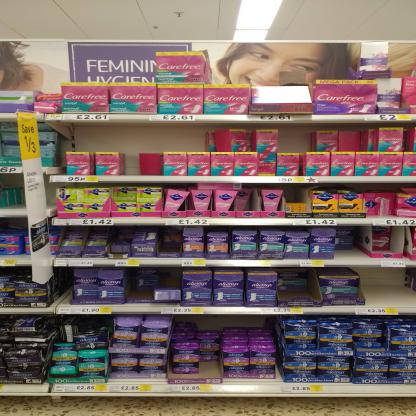Void: (63, 124, 204, 148), (365, 268, 415, 307), (190, 316, 271, 328), (53, 268, 75, 306), (132, 270, 176, 285), (281, 130, 309, 151), (162, 227, 180, 254), (338, 245, 367, 260), (282, 185, 306, 201), (283, 291, 315, 302), (2, 220, 23, 236), (10, 267, 33, 281), (126, 156, 138, 172)
